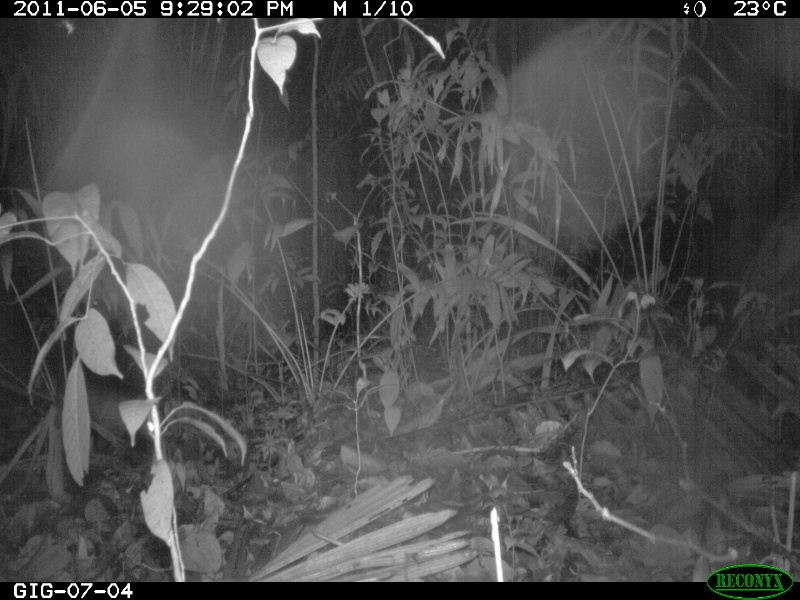opossum: (55, 366, 178, 446)
